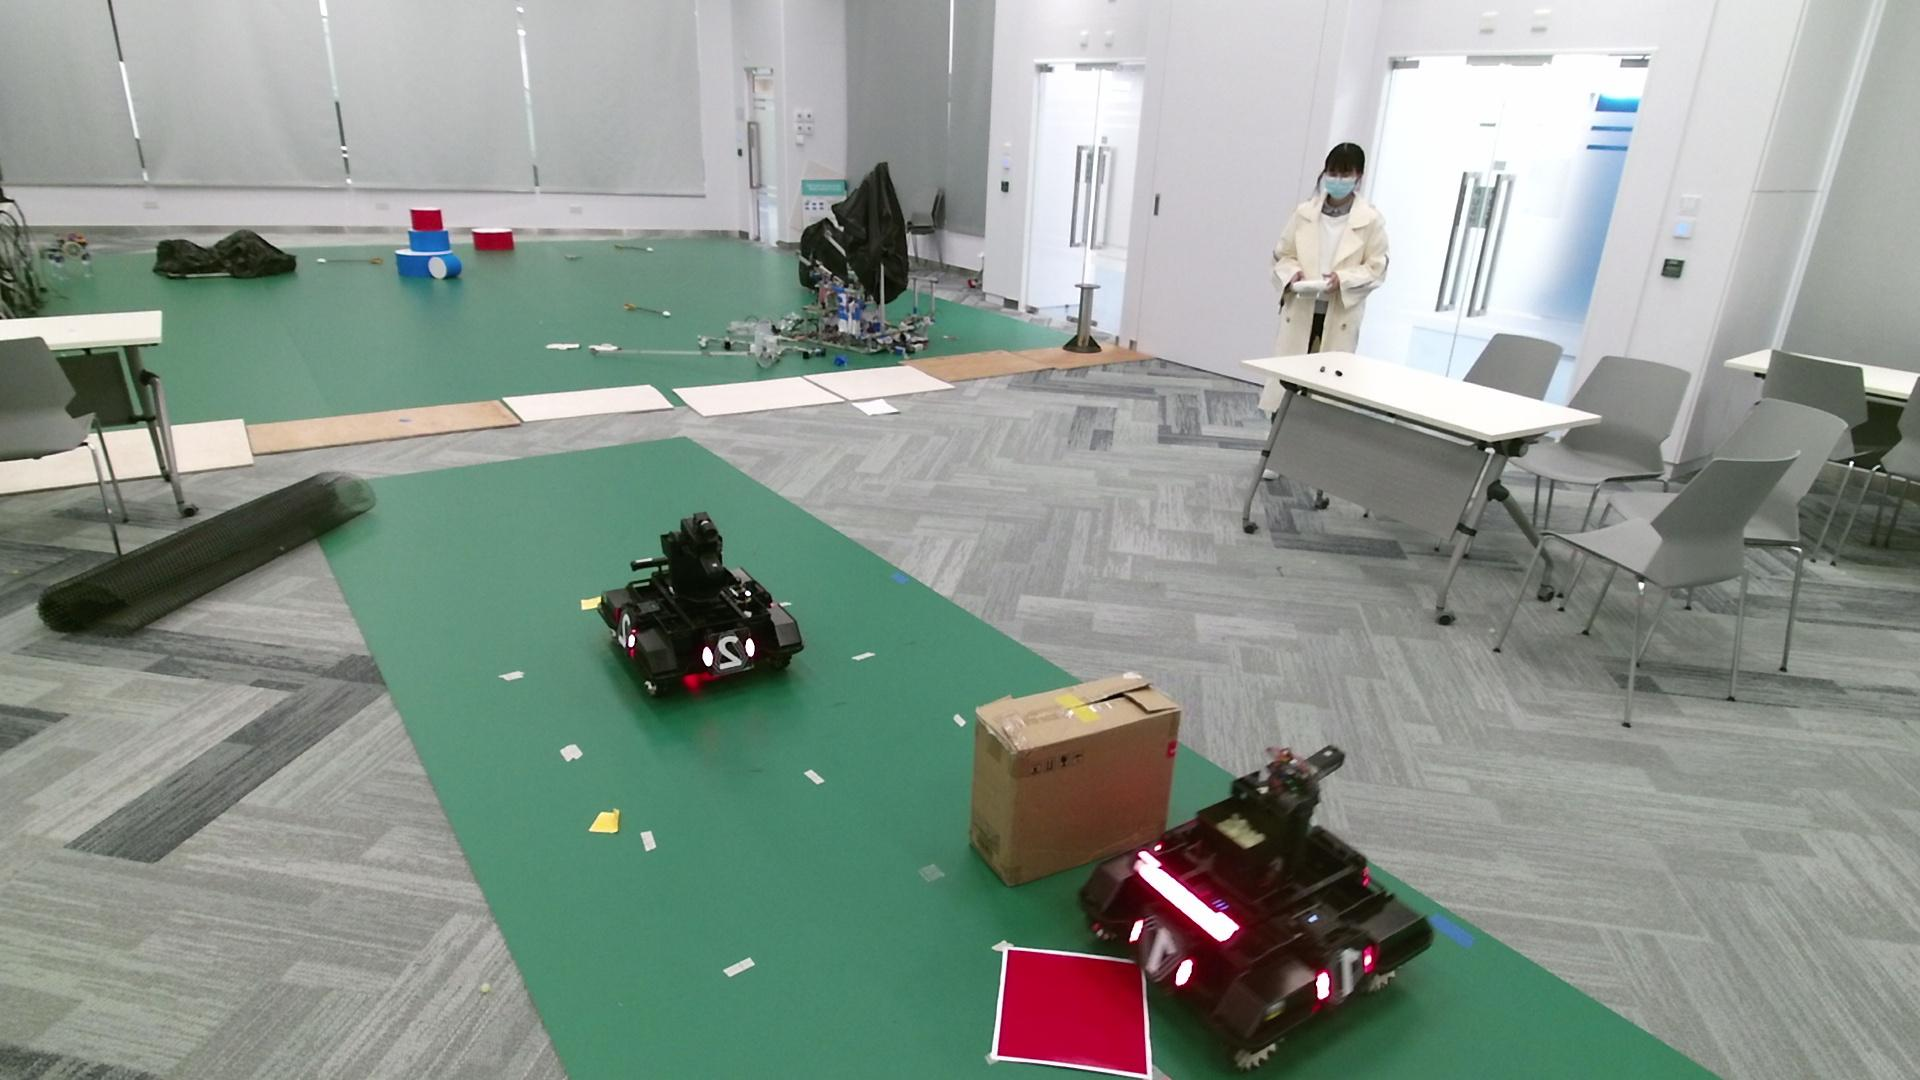robot: (1073, 742, 1433, 1071), (596, 510, 806, 700)
